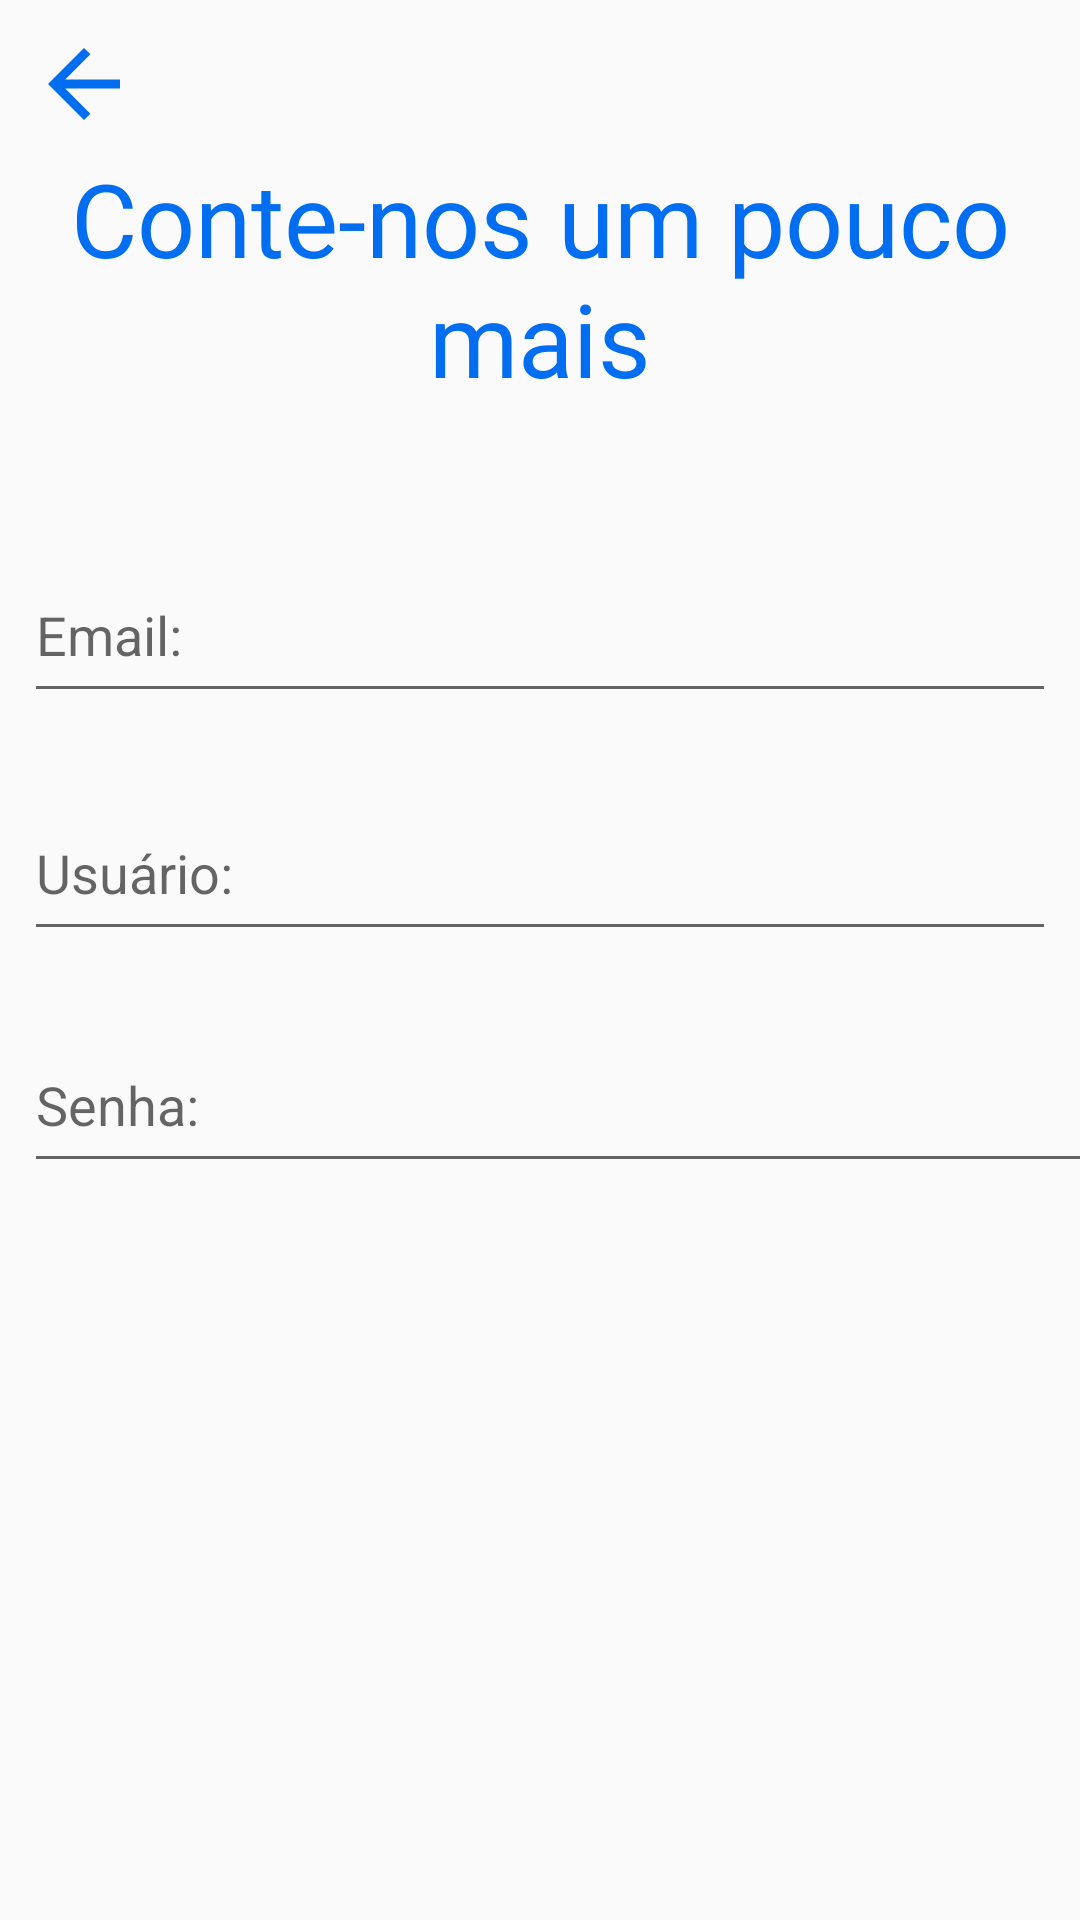

Screen size 1080 × 1920. Icon name, then its center in pixels as point (x, y):
arrow back: point (84, 84)
